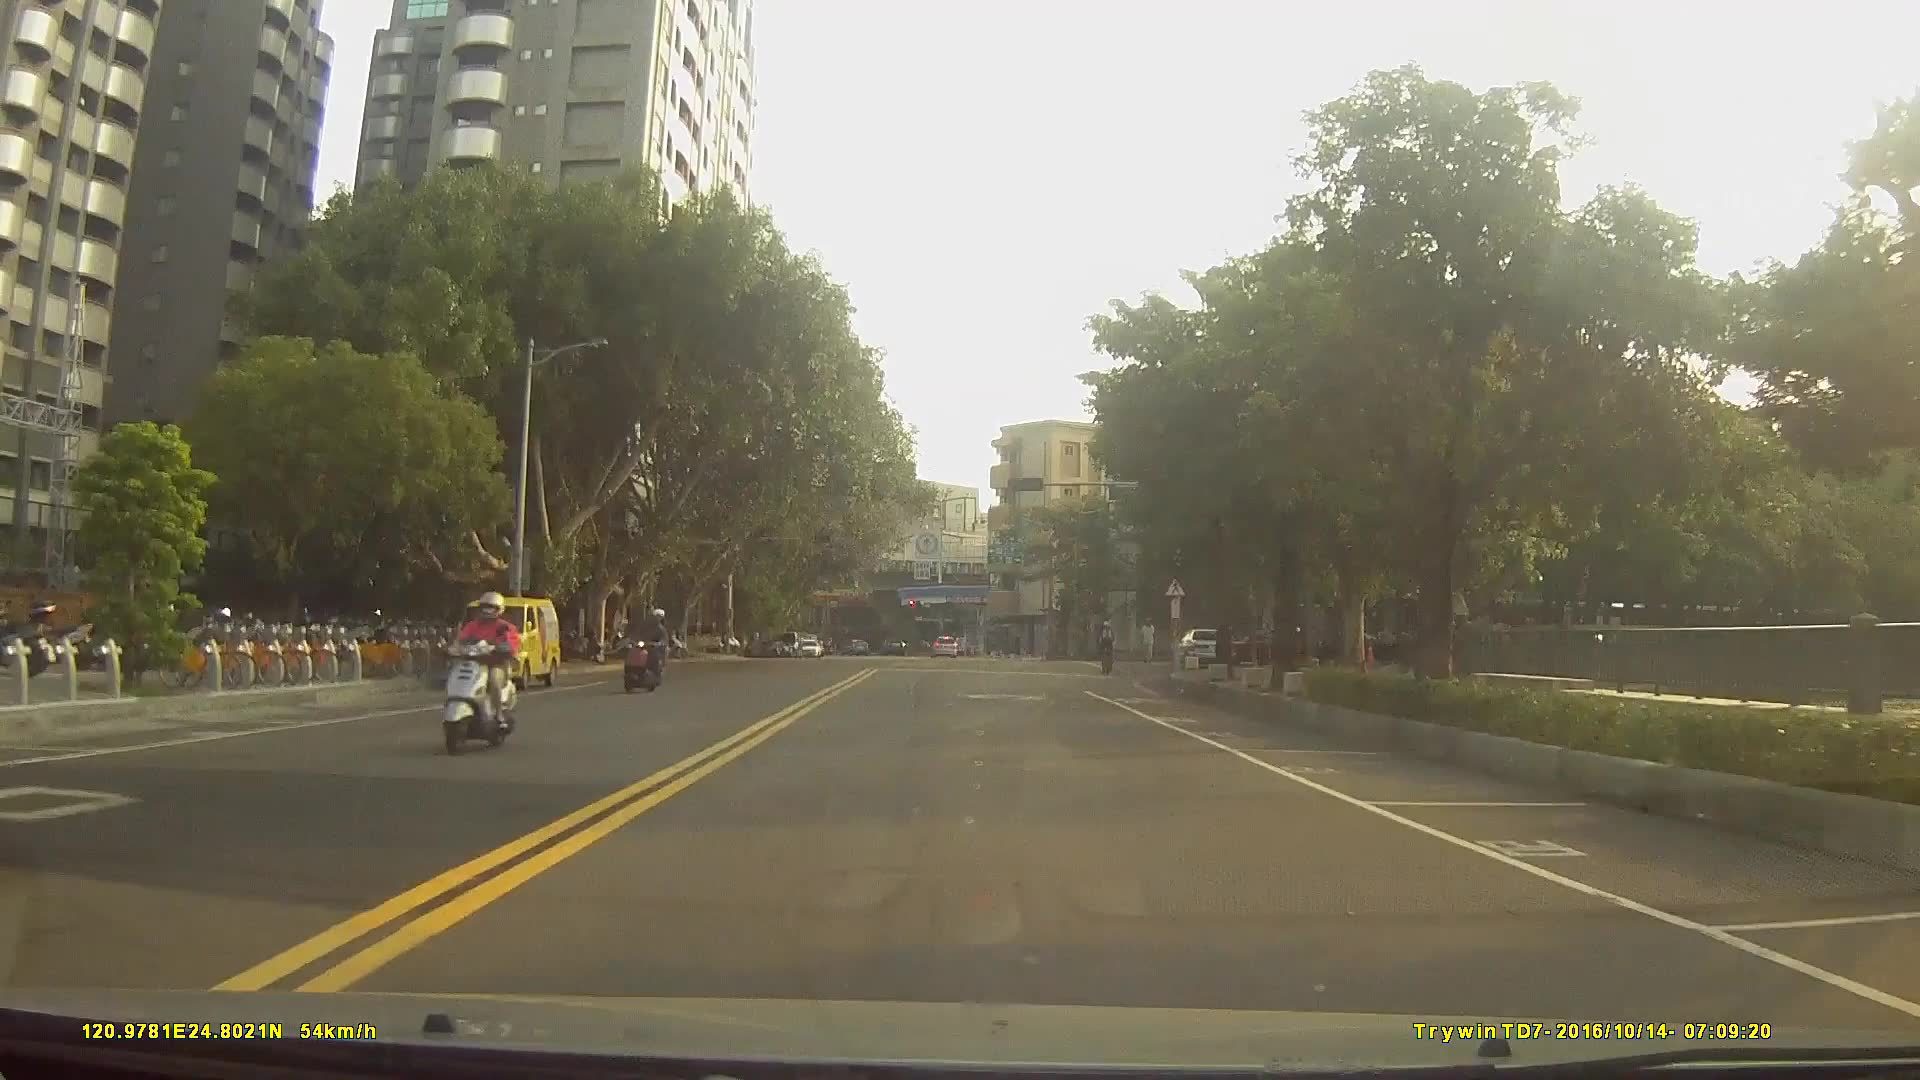pedestrian: (1137, 613, 1157, 665)
rider: (439, 589, 521, 753), (620, 606, 671, 693), (1098, 619, 1119, 677)
vehicle: (1175, 626, 1233, 667), (933, 634, 958, 657)
